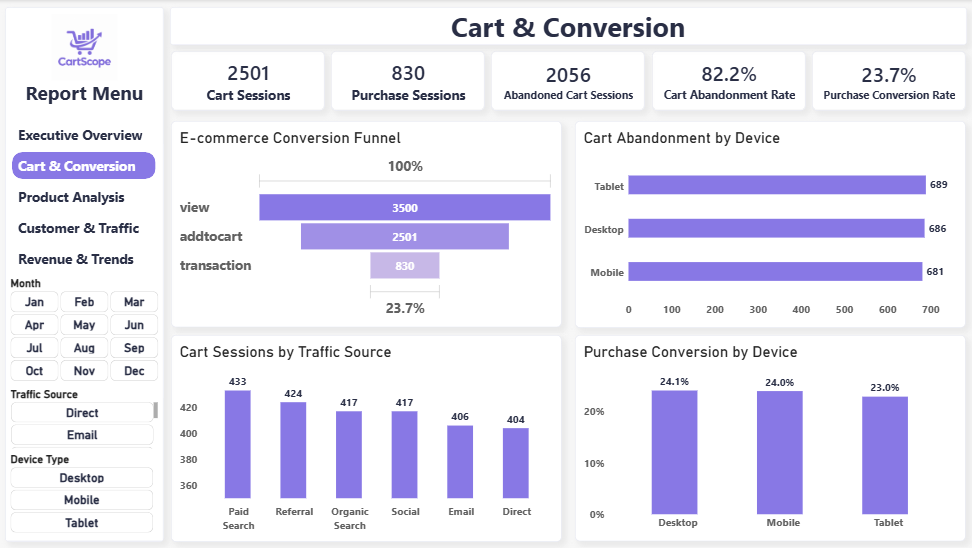

The page's visual inventory and layout, read from the dashboard file:
{"tool":"powerbi","page":{"name":"Cart & Conversion","canvas":[1920,1080],"ordinal":1},"visuals":[{"type":"cardVisual","title":"Total Revenue","fields":{"Data":["_Measures.Cart Sessions"]},"box":[341.6,101.4,302,116.8],"z":0},{"type":"cardVisual","title":"Total Revenue","fields":{"Data":["_Measures.Purchase Sessions"]},"box":[656.2,101.4,302,116.8],"z":1000},{"type":"cardVisual","title":"Total Revenue","fields":{"Data":["_Measures.Cart Abandonment Rate"]},"box":[1285.4,101.4,302,116.8],"z":2000},{"type":"cardVisual","title":"Total Revenue","fields":{"Data":["_Measures.Abandoned Cart Sessions"]},"box":[970.8,101.4,302,116.8],"z":3000},{"type":"cardVisual","title":"Total Revenue","fields":{"Data":["_Measures.Purchase Conversion Rate"]},"box":[1600,102.2,302,116.8],"z":5000},{"type":"funnel","title":"E-commerce Conversion Funnel","fields":{"Category":["events.event_type"],"Y":["_Measures.Event Sessions"]},"box":[341.6,239,767,405],"z":6000},{"type":"clusteredBarChart","title":"Cart Abandonment by Device","fields":{"Category":["sessions.device_type"],"Y":["_Measures.Abandoned Cart Sessions"]},"box":[1135.1,239,767,405.6],"z":7000},{"type":"clusteredColumnChart","title":"Purchase Conversion by Device","fields":{"Category":["sessions.device_type"],"Y":["_Measures.Purchase Conversion Rate"]},"box":[1135,659,767,405],"z":8000},{"type":"columnChart","title":"Cart Sessions by Traffic Source","fields":{"Category":["sessions.traffic_source"],"Y":["_Measures.Cart Sessions"]},"box":[341.6,659,767,405.6],"z":9000},{"type":"shape","box":[15,15,312,1050],"z":10000},{"type":"shape","box":[340,15,1565,75],"z":11000},{"type":"textbox","box":[342.5,15,1560,75],"z":12000},{"type":"pageNavigator","box":[30,240,282,300],"z":13000},{"type":"image","box":[16,30,312,130],"z":14000},{"type":"textbox","box":[16,160,312,58],"z":15000},{"type":"advancedSlicerVisual","title":"Month","fields":{"Values":["sessions.Session Month Short"]},"box":[22.5,540,300,217.5],"z":16000},{"type":"advancedSlicerVisual","title":"Traffic Source","fields":{"Values":["sessions.traffic_source"]},"box":[22,758.2,299.8,130],"z":17000},{"type":"advancedSlicerVisual","title":"Device Type","fields":{"Values":["sessions.device_type"]},"box":[22,886,299.8,178.5],"z":18000}]}

Visuals, with their boxes in screenshot pixels (x1, y1, x2, y2), scaled from the page's 1920x1080 canvas onto the 972x548 screenshot:
"Total Revenue" cardVisual: [173,51,326,111]
"Total Revenue" cardVisual: [332,51,485,111]
"Total Revenue" cardVisual: [651,51,804,111]
"Total Revenue" cardVisual: [491,51,644,111]
"Total Revenue" cardVisual: [810,52,963,111]
"E-commerce Conversion Funnel" funnel: [173,121,561,327]
"Cart Abandonment by Device" clusteredBarChart: [575,121,963,327]
"Purchase Conversion by Device" clusteredColumnChart: [575,334,963,540]
"Cart Sessions by Traffic Source" columnChart: [173,334,561,540]
shape: [8,8,166,540]
shape: [172,8,964,46]
textbox: [173,8,963,46]
pageNavigator: [15,122,158,274]
image: [8,15,166,81]
textbox: [8,81,166,111]
"Month" advancedSlicerVisual: [11,274,163,384]
"Traffic Source" advancedSlicerVisual: [11,385,163,451]
"Device Type" advancedSlicerVisual: [11,450,163,540]
